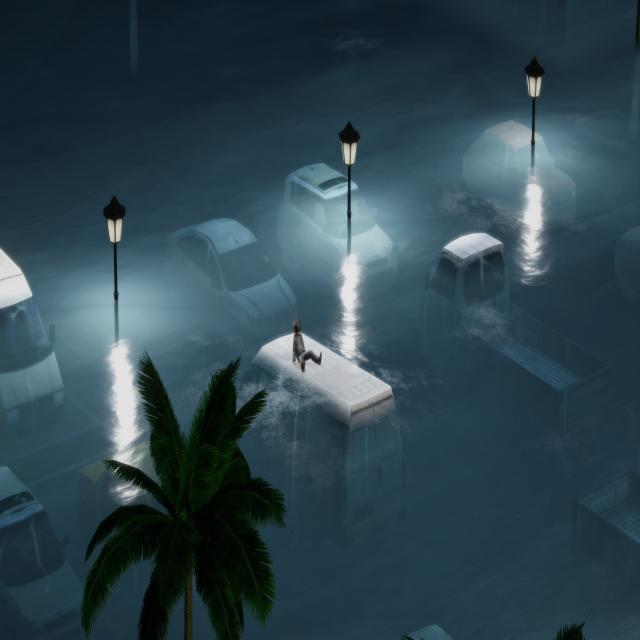Human: (286, 312, 326, 375)
